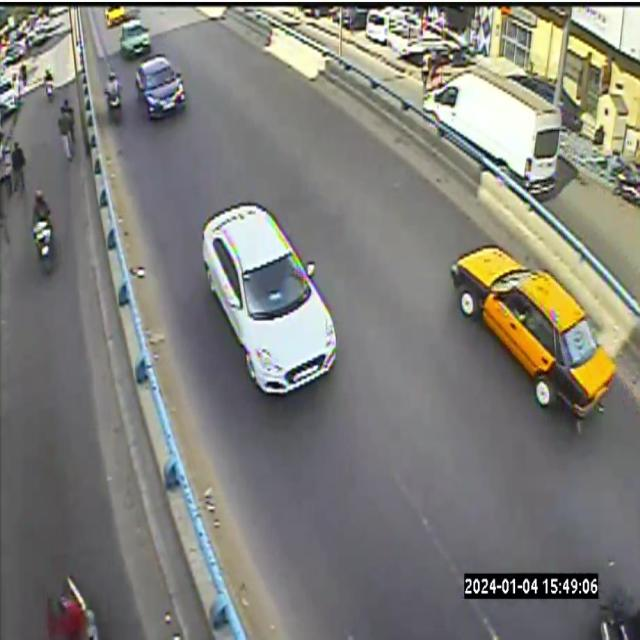car: (449, 245, 615, 421), (202, 202, 337, 394), (136, 56, 185, 119), (120, 19, 151, 57), (105, 5, 127, 28)
